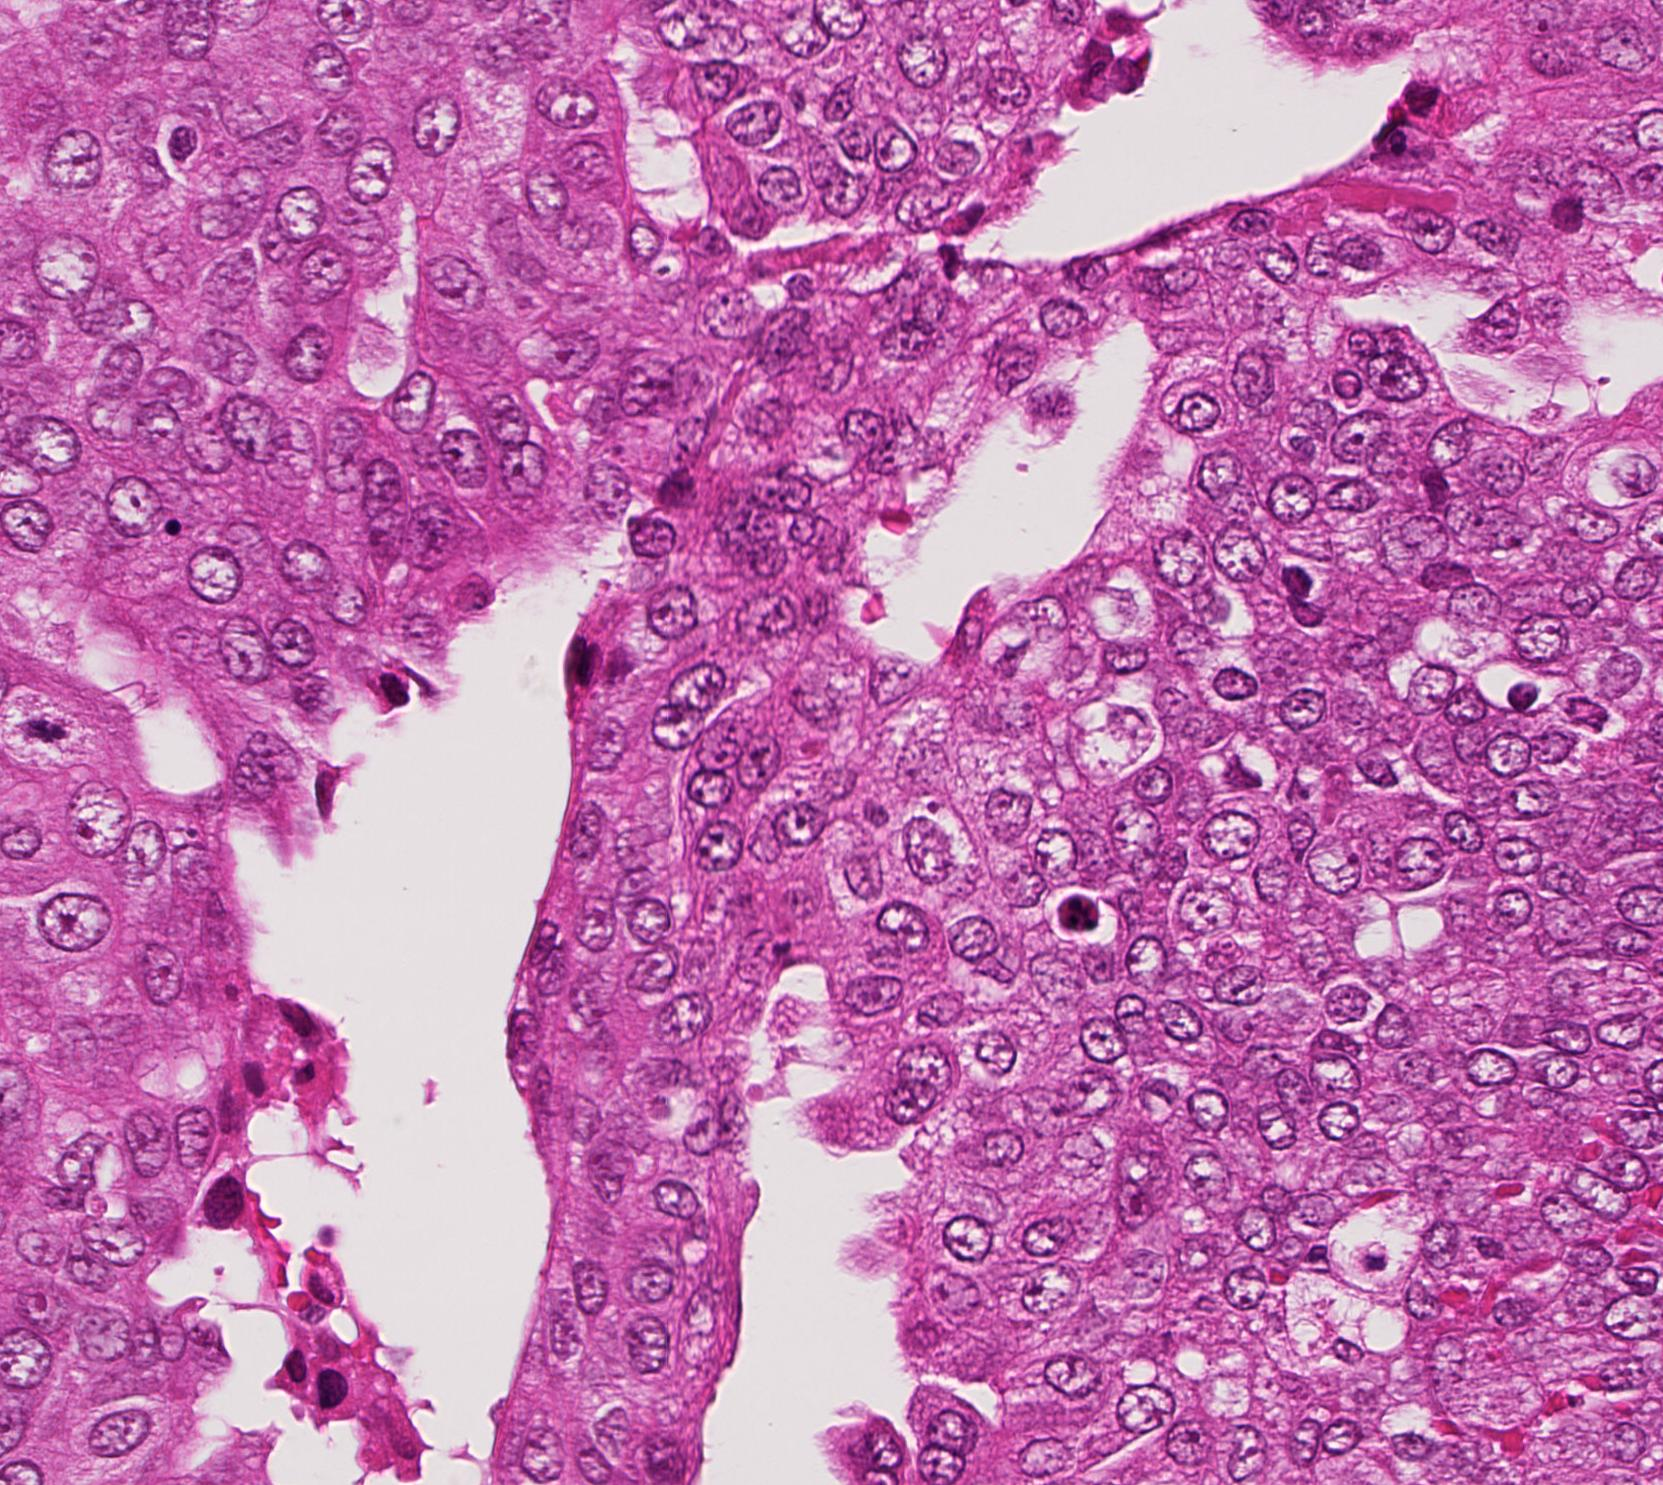mitosis: (20, 702, 80, 763)
